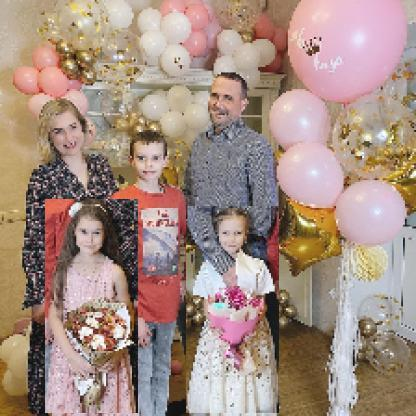child: (46, 200, 140, 415), (187, 207, 281, 415)
